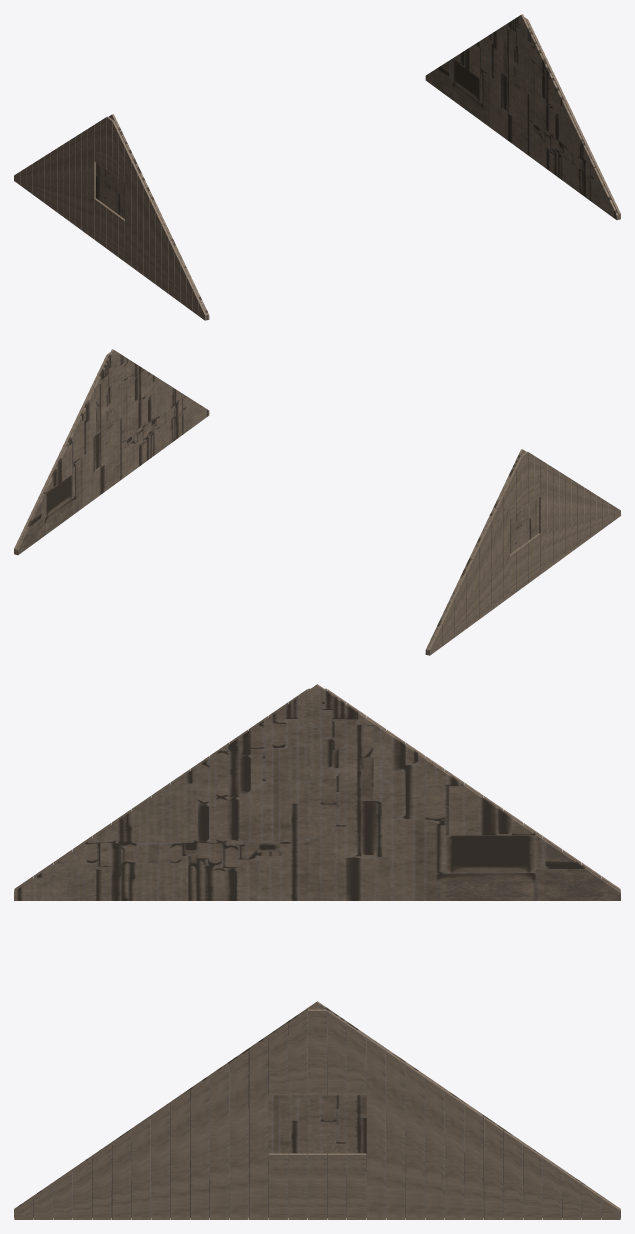
Rendered from BW_Farmhouse01_Gables.fbx.
3 renders of one model, top to bottom at view 1: azimuth 30°, elevation 25°; view 2: azimuth 150°, elevation 25°; view 3: azimuth 270°, elevation 25°, orthographic. The views are drawn at different scales.
Parts seen in each view (by area): view 1: BW_Farmhouse01_Gables; view 2: BW_Farmhouse01_Gables; view 3: BW_Farmhouse01_Gables.
Part boxes in pixels (bbox=[...]): BW_Farmhouse01_Gables: bbox=[14, 14, 620, 320]; BW_Farmhouse01_Gables: bbox=[14, 349, 620, 655]; BW_Farmhouse01_Gables: bbox=[14, 684, 620, 1219].
Size of the model in its own units: 9.05 by 2.82 by 7.2.
